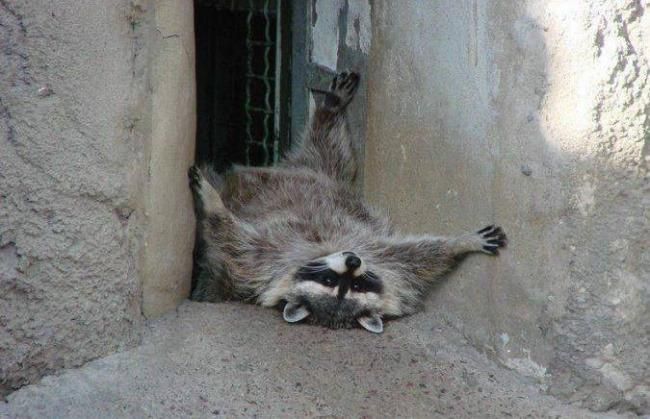raccoon: (190, 65, 509, 336)
